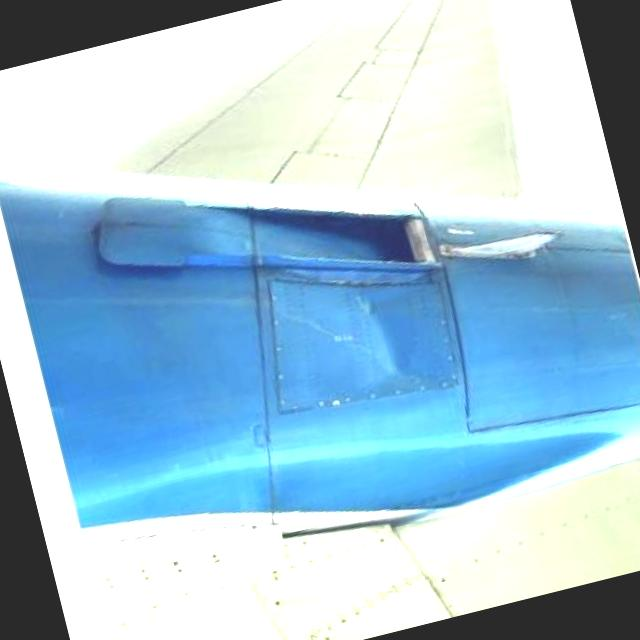dent: (340, 253, 456, 397)
